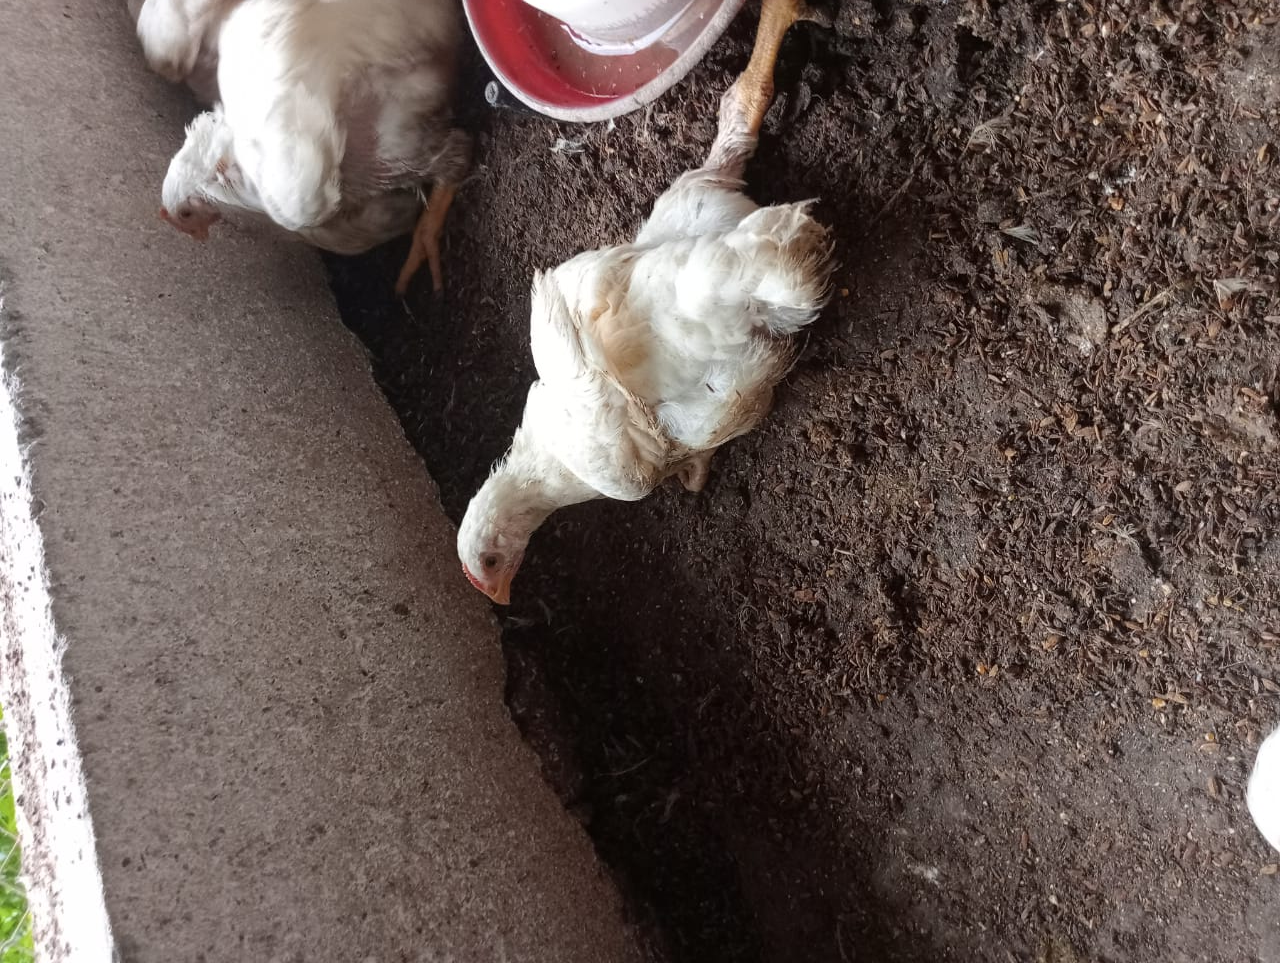Unhealthy: (359, 34, 838, 627)
